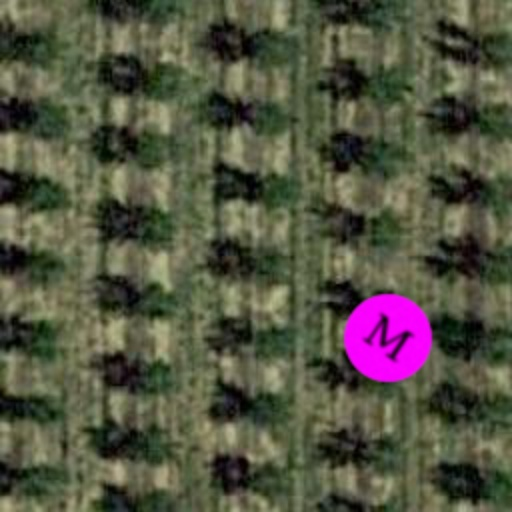circle: (326, 276, 450, 400)
